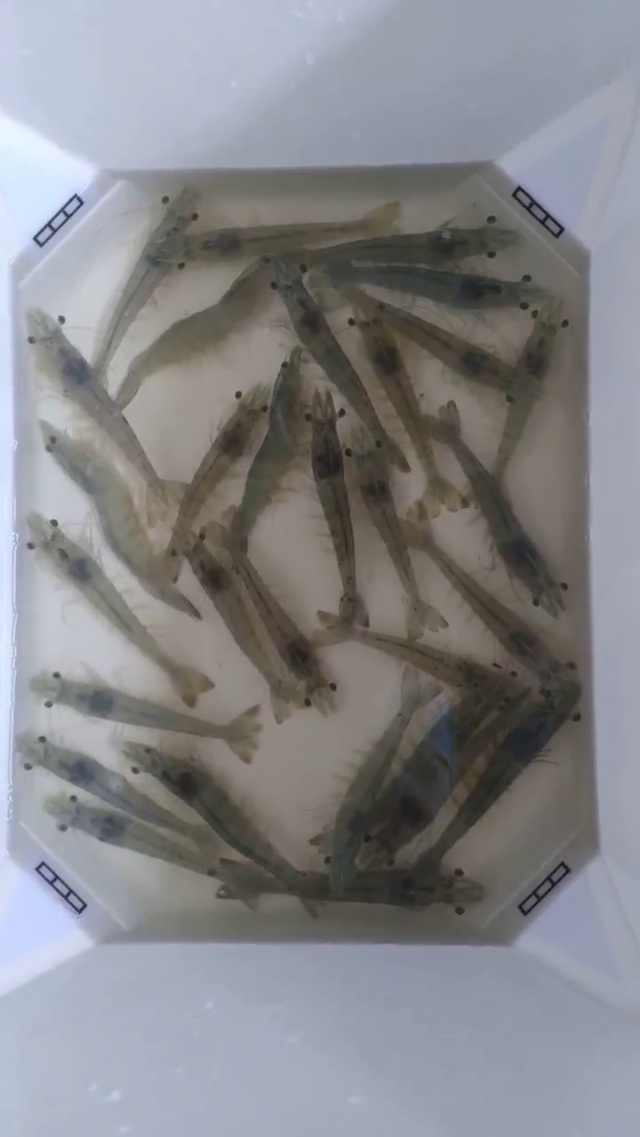shrimp: (294, 352, 390, 549), (411, 781, 522, 941), (0, 188, 88, 388), (426, 401, 522, 580), (167, 410, 251, 606), (103, 187, 197, 354), (441, 555, 547, 695), (436, 163, 541, 304), (27, 309, 130, 450), (187, 772, 274, 937), (487, 226, 581, 376), (511, 485, 589, 665), (288, 769, 372, 936), (74, 685, 169, 823), (242, 221, 355, 336), (242, 346, 316, 515), (108, 490, 200, 619), (24, 512, 122, 628), (0, 565, 43, 808), (150, 676, 260, 762), (311, 600, 372, 712), (32, 672, 162, 722)
